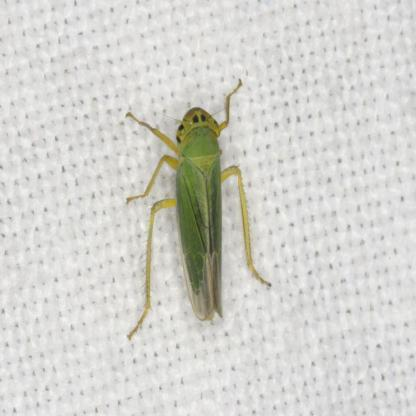Green-Leafhopper: (120, 82, 272, 350)
